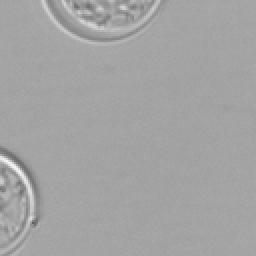picoshell: (40, 0, 160, 44), (0, 148, 38, 254)
